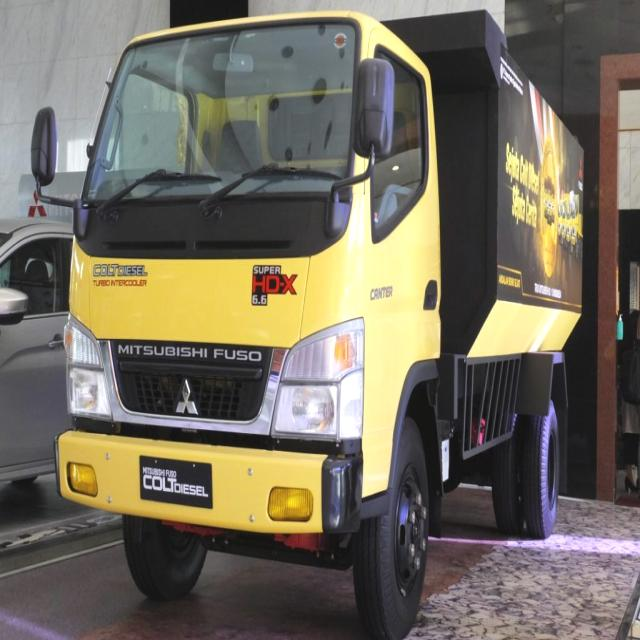truck: (30, 11, 584, 640)
